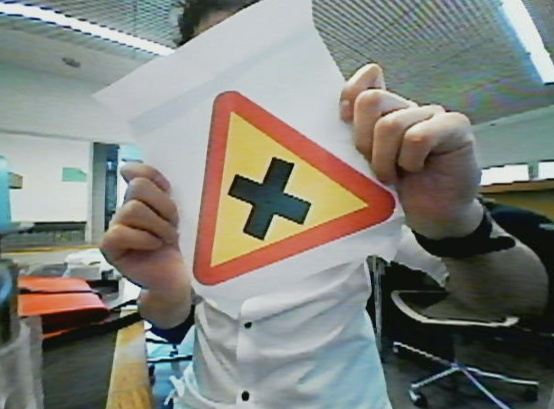junction: (187, 93, 405, 277)
